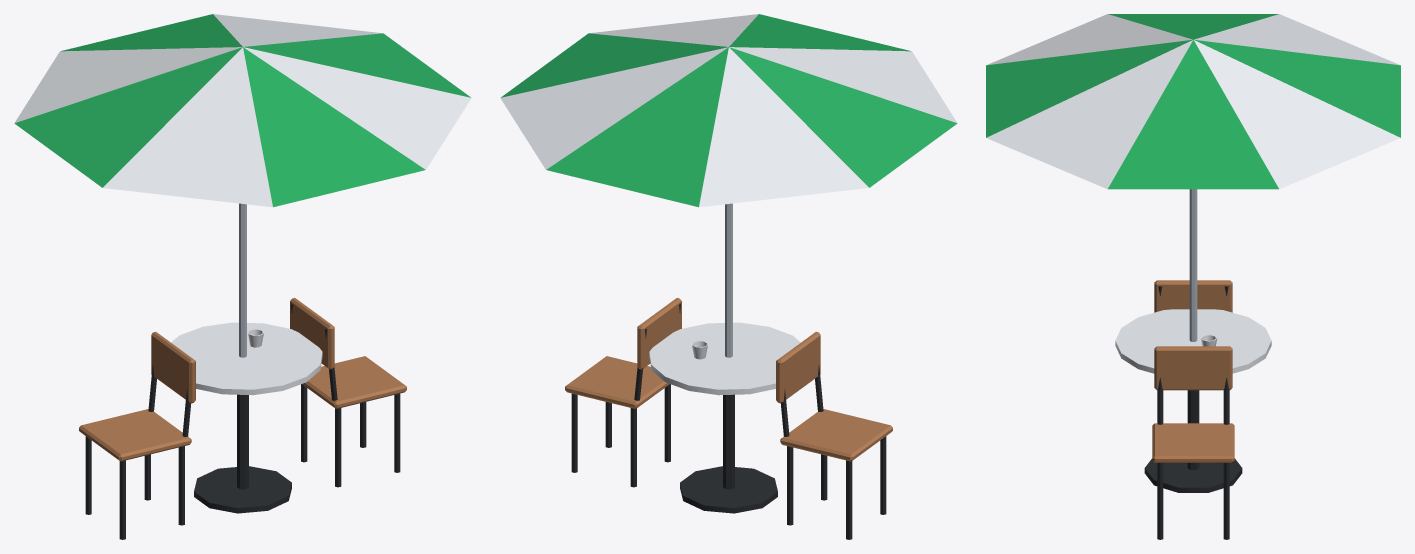
File: cafe_table.glb
3 renders of one model, left to right at view 1: azimuth 30°, elevation 25°; view 2: azimuth 150°, elevation 25°; view 3: azimuth 270°, elevation 25°, orthographic. The views are drawn at different scales.
Parts seen in each view (by area): view 1: cafe_table; view 2: cafe_table; view 3: cafe_table.
Boxes of the visible parts, x1,y1,x2,y2 form: cafe_table: (14, 14, 471, 539); cafe_table: (500, 14, 957, 539); cafe_table: (986, 14, 1400, 539).
Bounding box in the file's own units: 2.12 × 2.45 × 2.12.
